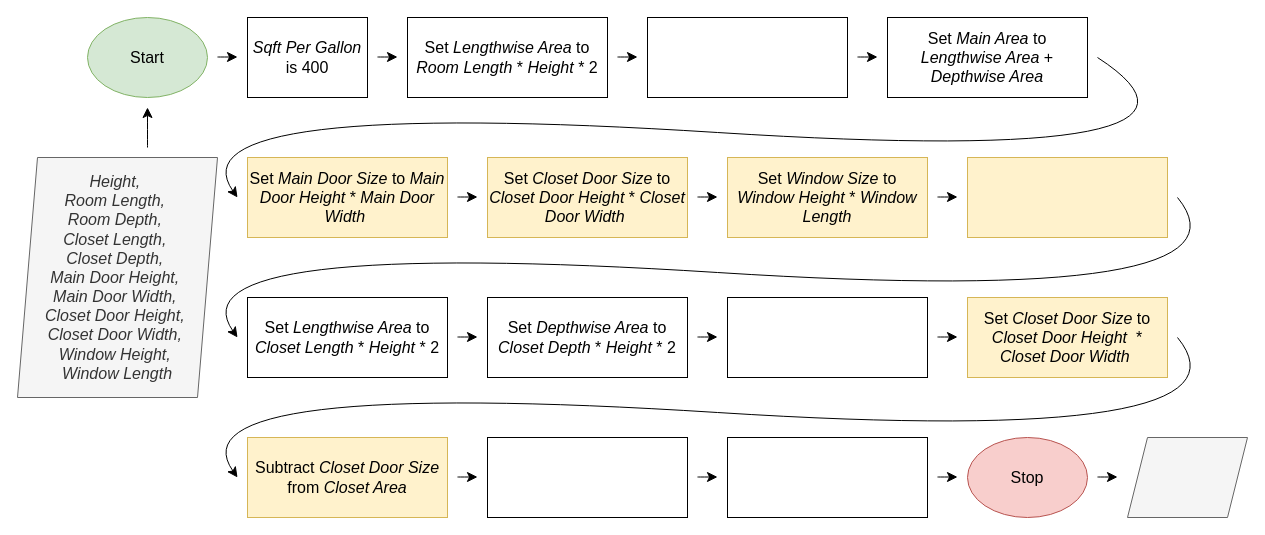
Image size: 1265x535. Some labels were removed from this diagram. The centre of each missing label's shape, as x and y in pixels:
"Gallons of Paint" goes at point (1187, 477).
"Set Closet Area to Lengthwise Area + Depthwise Area" goes at point (827, 337).
"Set Depthwise Area to Room Depth * Height * 2" goes at point (747, 57).
"Set Gallons of Paint to Total Area / Sqft Per Gallon (rounded up)" goes at point (827, 477).
"Set Total Area to Main Area + Closet Area" goes at point (587, 477).
"Subtract Main Door Size + Closet Door Size + Window Size from Main Area" goes at point (1067, 197).
